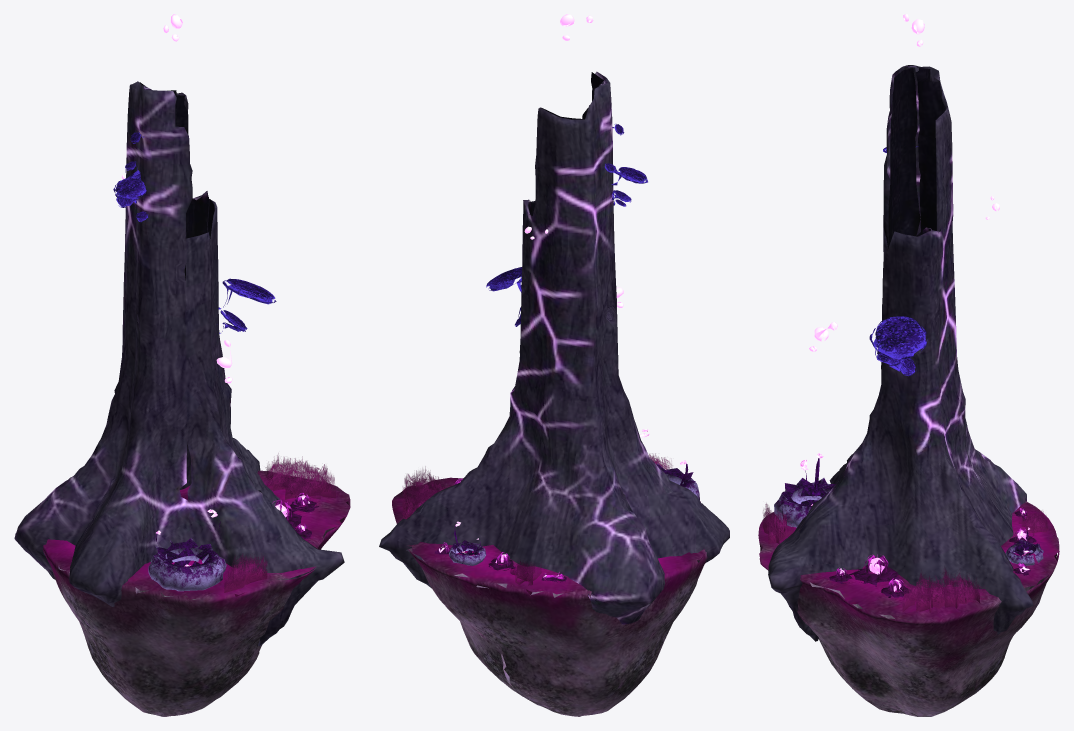
The model's file is arvore-rocha.glb.
The picture shows the model from 3 angles, left to right: view 1: azimuth 30°, elevation 25°; view 2: azimuth 150°, elevation 25°; view 3: azimuth 270°, elevation 25°; orthographic projection.
Parts seen in each view (by area): view 1: m; view 2: m; view 3: m.
Boxes of the visible parts, <box> form: m: <box>14,14,350,716</box>; m: <box>379,14,729,716</box>; m: <box>758,14,1059,716</box>.
Bounding box in the file's own units: 12.78 × 28.5 × 11.2.
7 materials, 7 textured.
